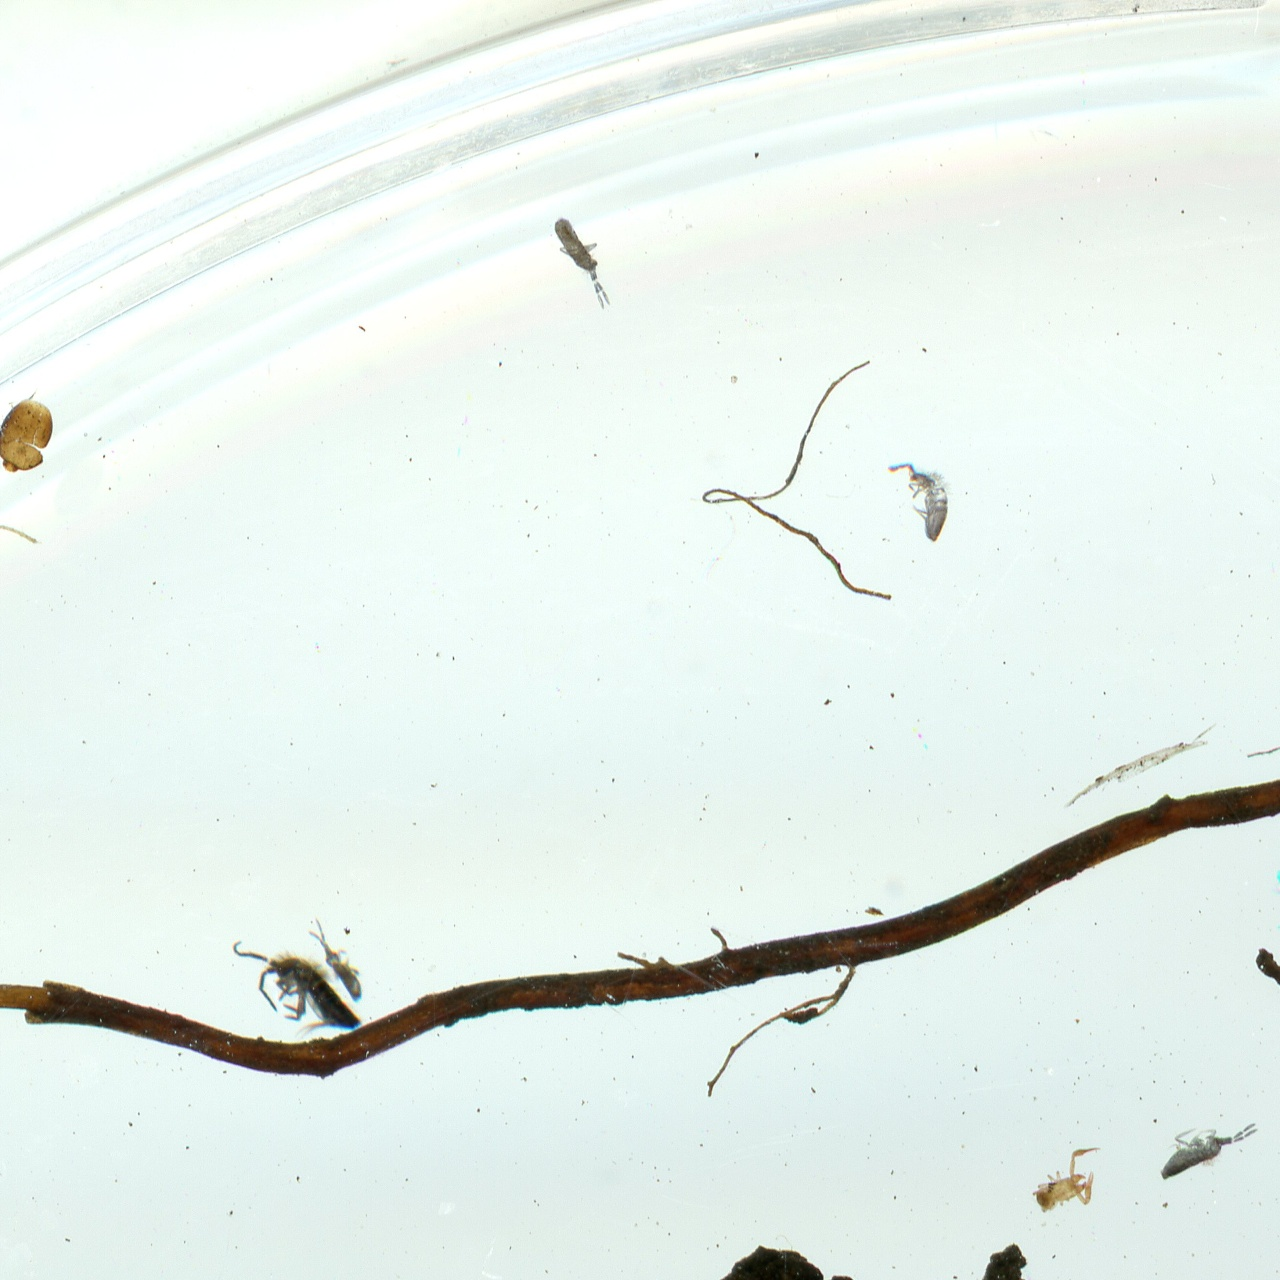arthropod: (225, 938, 368, 1043), (1131, 1101, 1268, 1193), (538, 195, 629, 322), (293, 903, 383, 1022), (881, 455, 954, 549), (1030, 1145, 1103, 1216), (1252, 851, 1280, 958)
